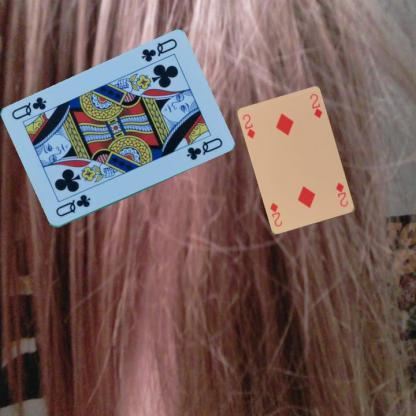2d: (240, 111, 257, 140), (334, 180, 350, 208)
Qc: (138, 36, 179, 64), (52, 192, 92, 218)
